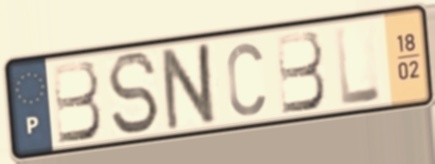B: (273, 28, 329, 118), (49, 58, 105, 147)
C: (223, 39, 268, 120)
L: (332, 22, 385, 109)
N: (159, 38, 221, 134)
S: (104, 49, 162, 137)
